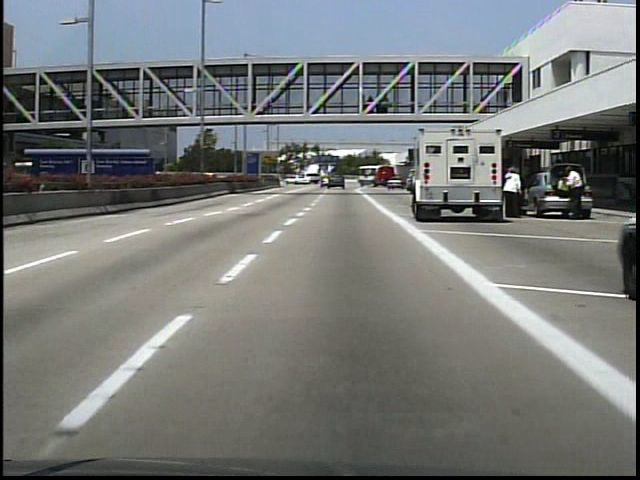person: (559, 163, 586, 222), (500, 161, 524, 222)
